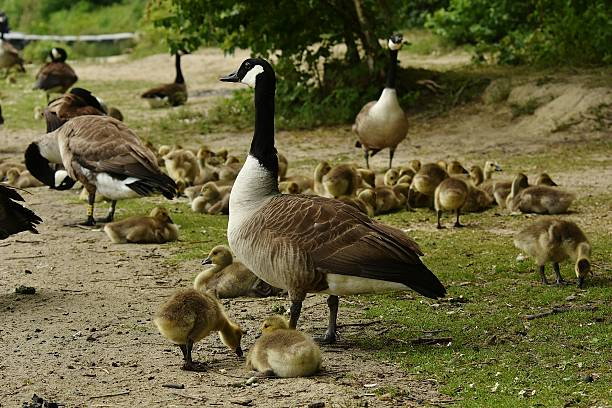goose: (215, 56, 446, 355), (20, 113, 184, 233), (352, 29, 412, 172), (140, 47, 189, 111), (34, 47, 80, 96)
